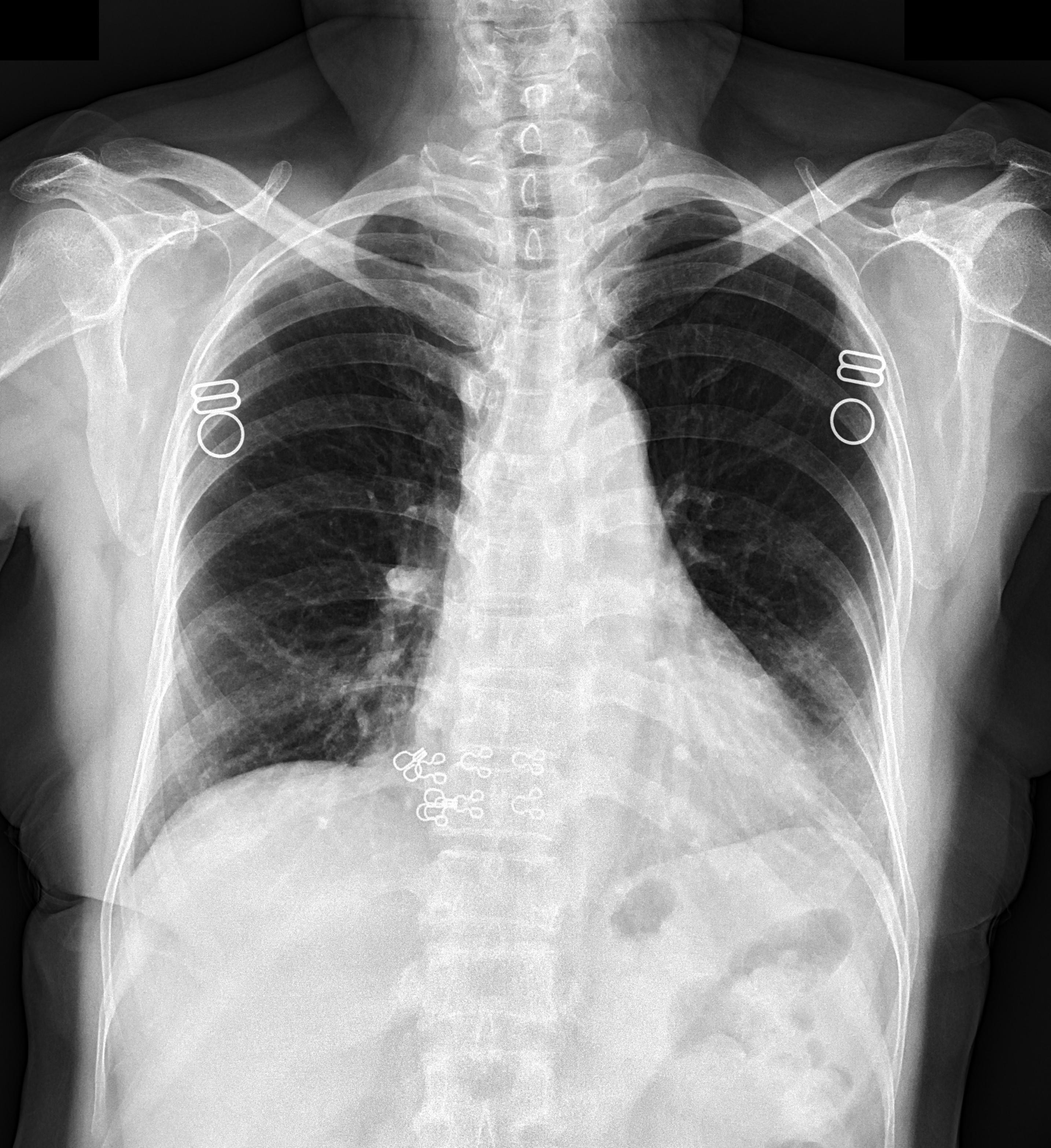Cardiomegaly: (410, 698, 829, 838)
